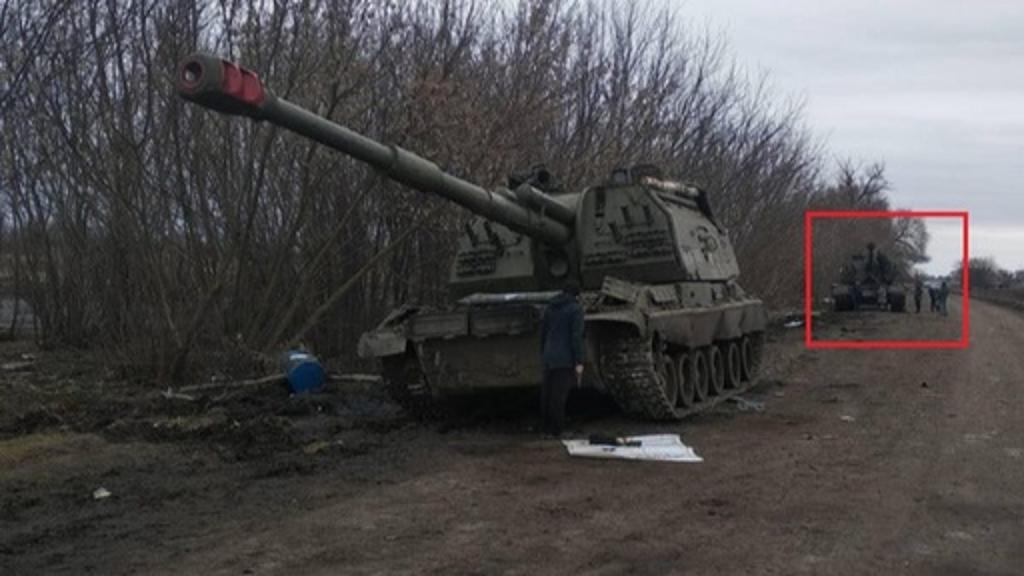ART: (174, 44, 766, 434), (826, 238, 904, 314)
